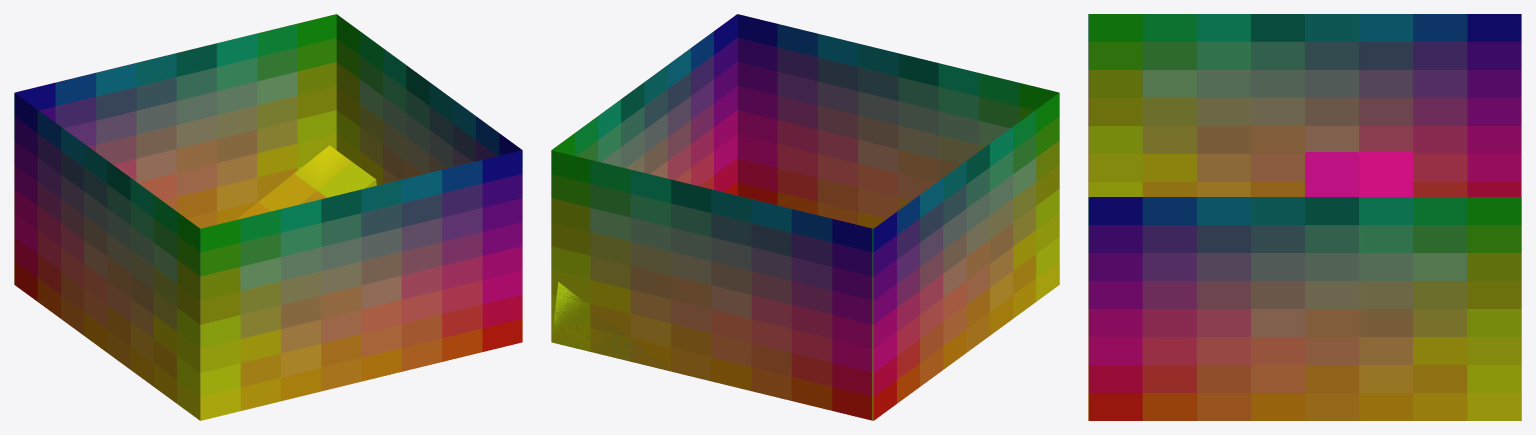
File: colorCube1Shape.dae
The picture shows the model from 3 angles, left to right: view 1: azimuth 30°, elevation 25°; view 2: azimuth 150°, elevation 25°; view 3: azimuth 270°, elevation 25°; orthographic projection. The views are drawn at different scales.
Visible parts, largest first — view 1: colorCube1; view 2: colorCube1; view 3: colorCube1.
Part boxes in pixels (bbox=[...]): colorCube1: bbox=[14, 14, 522, 420]; colorCube1: bbox=[551, 14, 1059, 420]; colorCube1: bbox=[1088, 14, 1521, 420].
Size of the model in its own units: 505 by 288 by 505.
